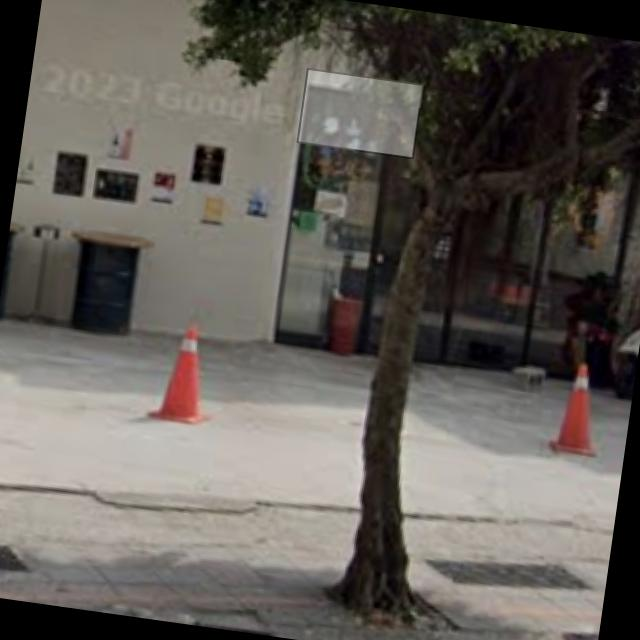cone: (148, 314, 225, 430), (545, 358, 615, 466)
